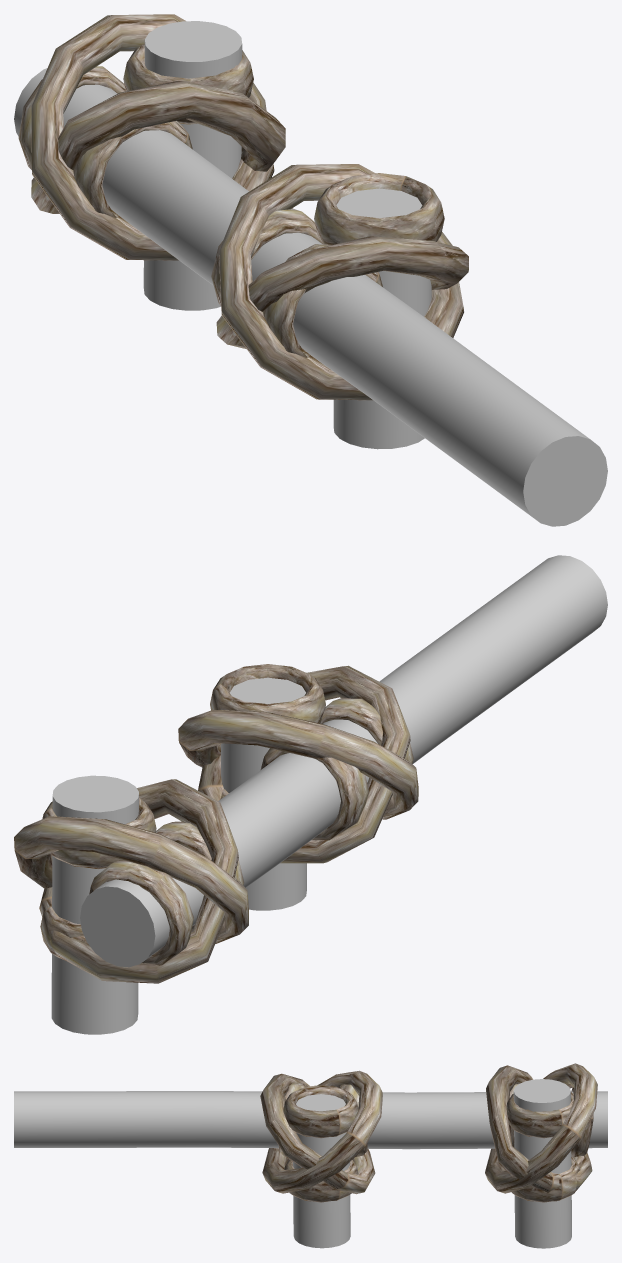
File: env_amazon_step_01.fbx
3 views of the same model, one above another, from view 1: azimuth 30°, elevation 25°; view 2: azimuth 150°, elevation 25°; view 3: azimuth 270°, elevation 25° (orthographic). The views are drawn at different scales.
Visible parts, largest first — view 1: env_amazon_step; view 2: env_amazon_step; view 3: env_amazon_step.
Boxes of the visible parts, x1,y1,x2,y2 form: env_amazon_step: (14,14,607,526); env_amazon_step: (14,555,607,1034); env_amazon_step: (14,1063,607,1248).
Size of the model in its own units: 1.1 by 1.12 by 4.
